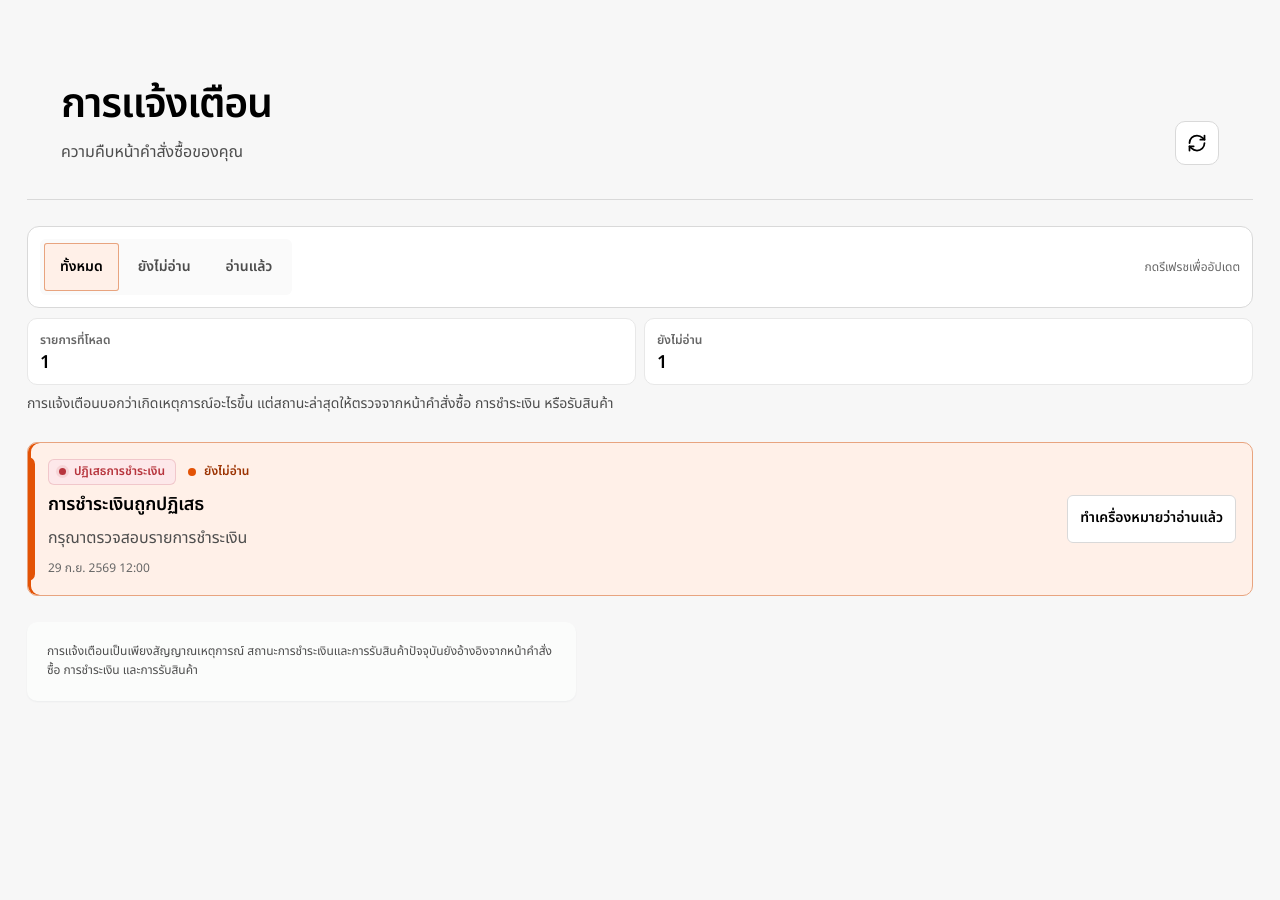
Test: NotificationsView › switches to unread filter and removes an item after marking it read
This screenshot has width=1280, height=900.
Expected: the heading "การชำระเงินถูกปฏิเสธ" is shown, [48, 491, 204, 518]
Click the button "ยังไม่อ่าน".
click(164, 267)  # box [122, 243, 207, 291]
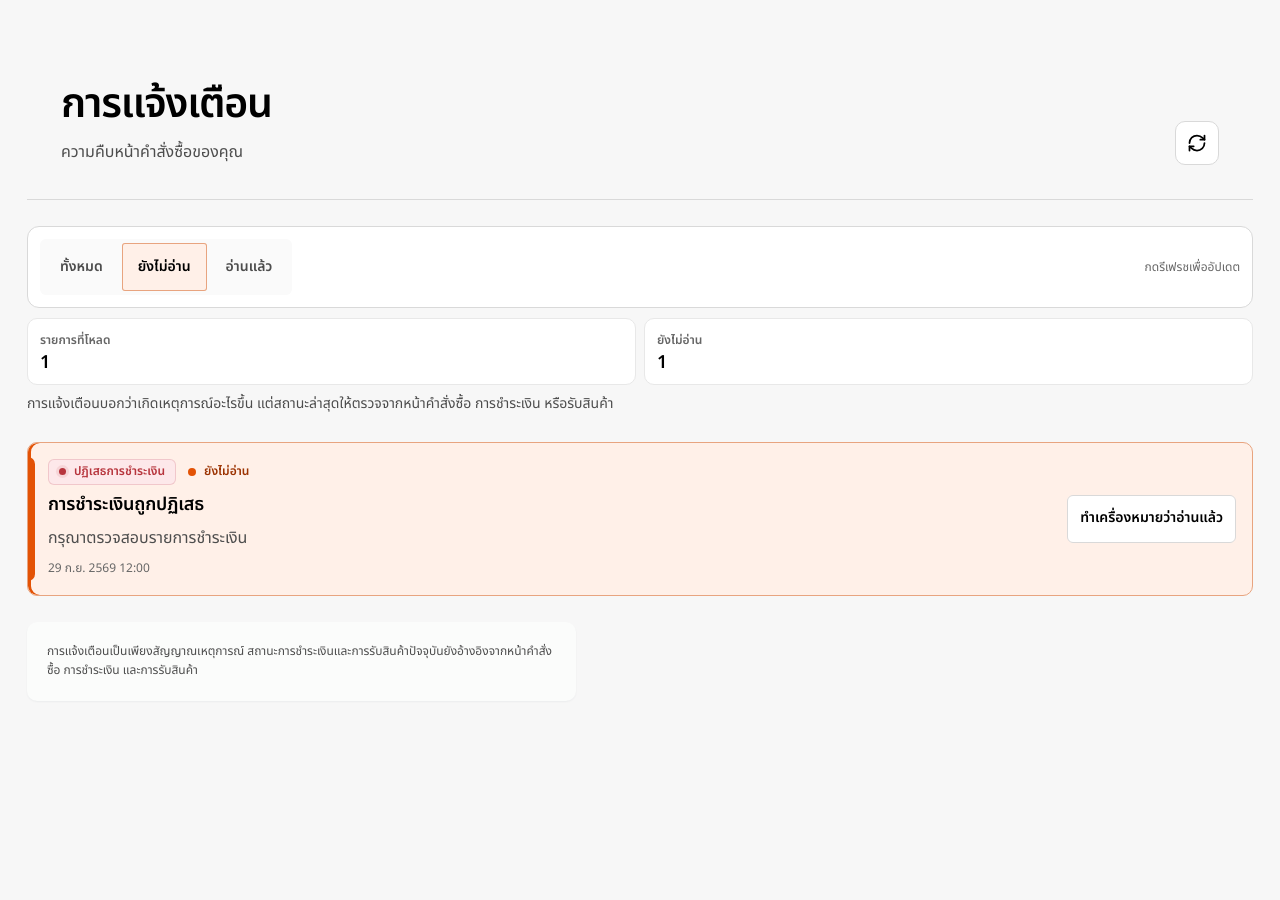
Expected: the heading "การชำระเงินถูกปฏิเสธ" is shown, [48, 491, 204, 518]
Click the button "ทำเครื่องหมายว่าอ่านแล้ว".
click(1152, 519)  # box [1067, 495, 1236, 543]
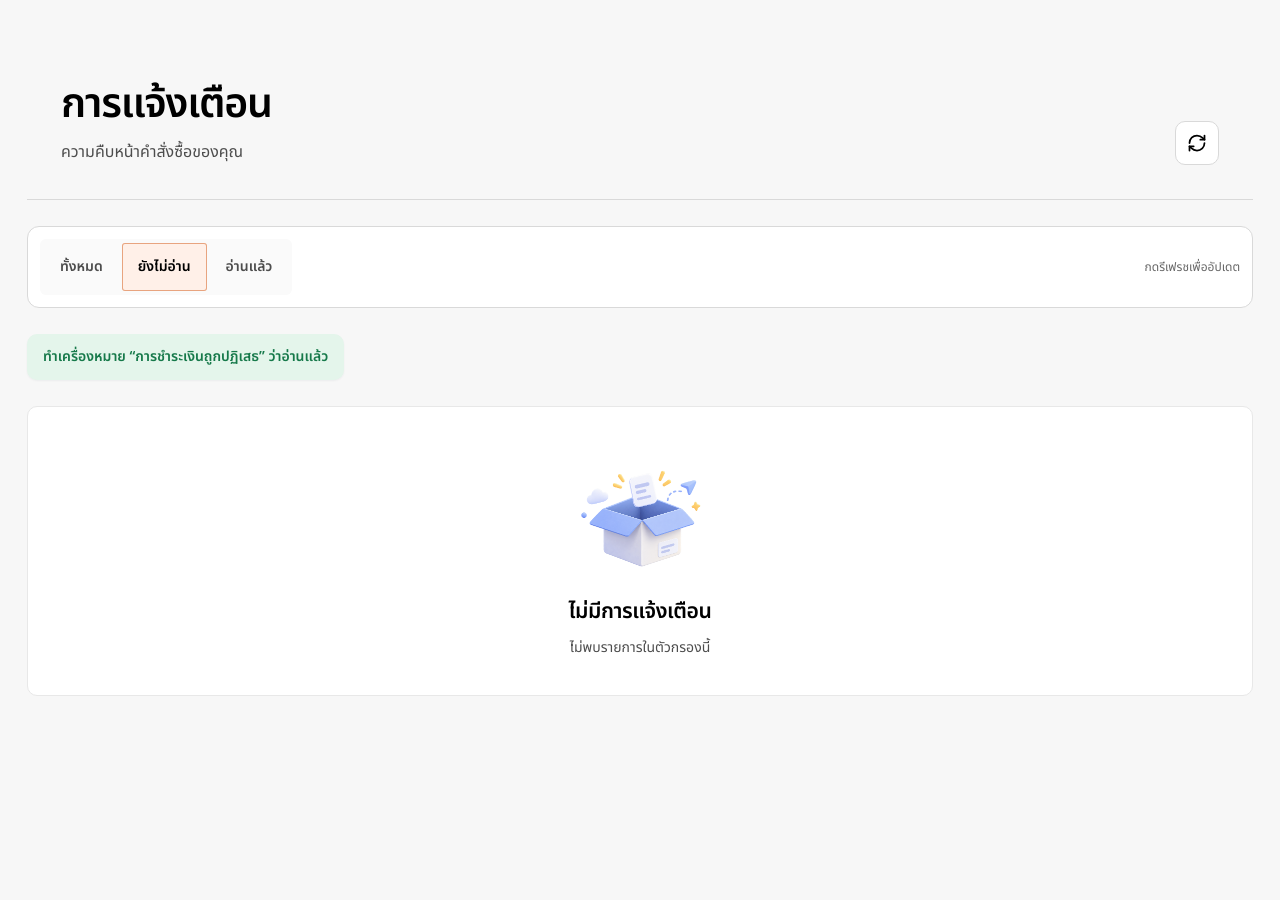
Result: the heading "ไม่มีการแจ้งเตือน" is shown at [568, 599, 712, 627]
